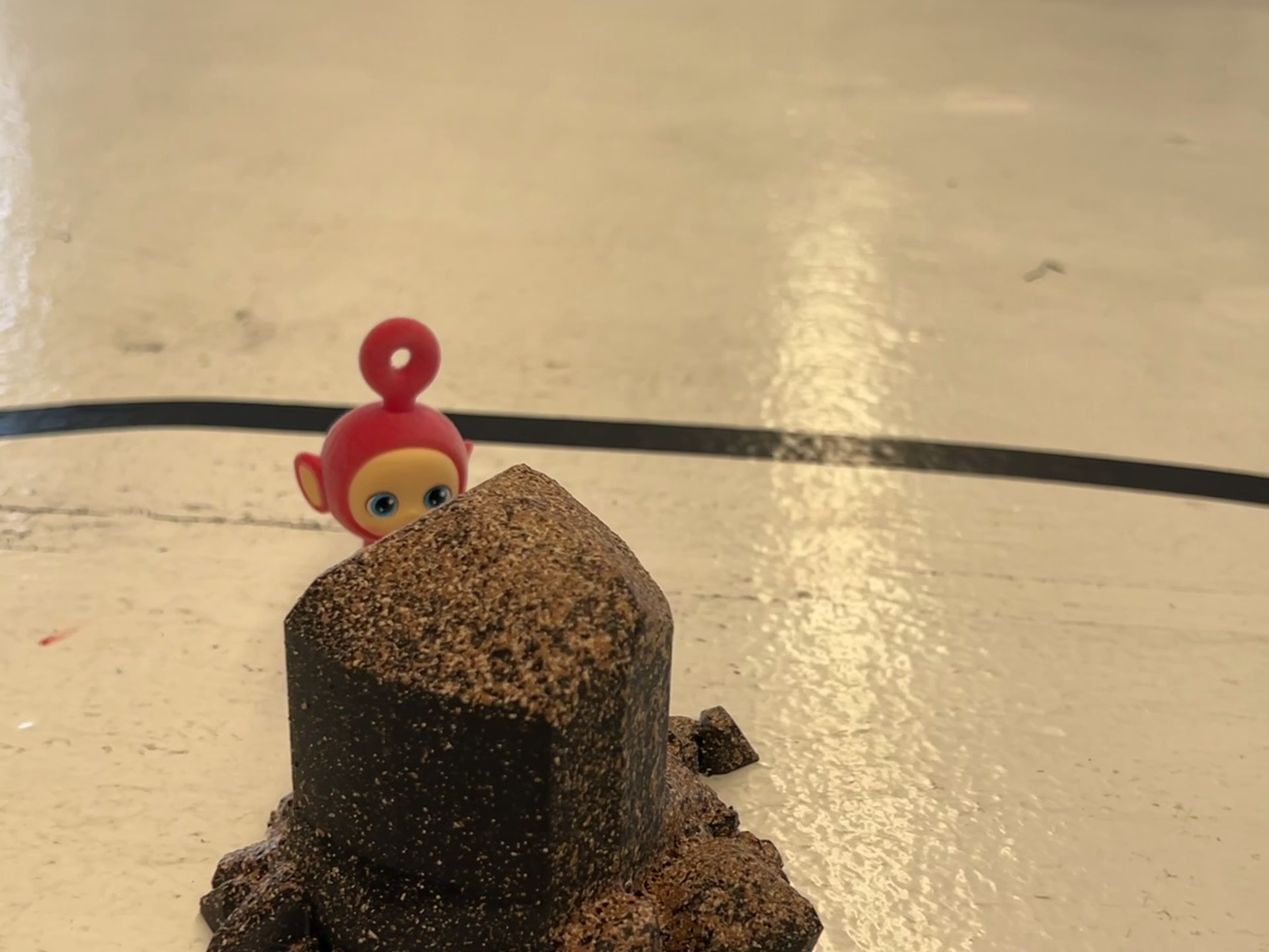teletubby: (293, 317, 473, 547)
